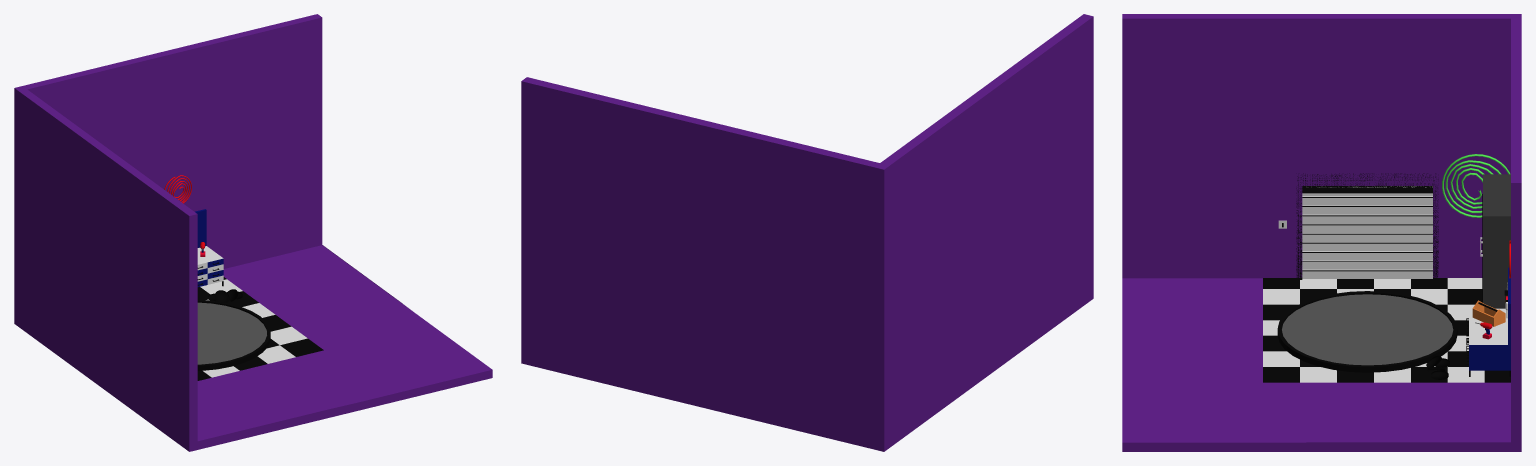
File: GARAGE.fbx
3 renders of one model, left to right at view 1: azimuth 30°, elevation 25°; view 2: azimuth 150°, elevation 25°; view 3: azimuth 270°, elevation 25°, orthographic. The views are drawn at different scales.
Visible parts, largest first — view 1: Cube, Cylinder.001, Cube.003, Cube.004, Cube.002; view 2: Cube; view 3: Cube, Cube.011, Cylinder.001, Cube.004, Cube.003, Cube.001, Cube.002, Circle.001, Cylinder, Cube.017.
Boxes of the visible parts, x1=… form: Cube: x1=14, y1=14, x2=492, y2=451; Cylinder.001: x1=197, y1=299, x2=270, y2=370; Cube.003: x1=200, y1=279, x2=307, y2=377; Cube.004: x1=197, y1=277, x2=323, y2=380; Cube.002: x1=195, y1=209, x2=223, y2=286; Cube: x1=521, y1=14, x2=1093, y2=451; Cube: x1=1122, y1=14, x2=1521, y2=451; Cube.011: x1=1296, y1=173, x2=1438, y2=279; Cylinder.001: x1=1277, y1=291, x2=1457, y2=372; Cube.004: x1=1263, y1=278, x2=1510, y2=382; Cube.003: x1=1263, y1=278, x2=1484, y2=382; Cube.001: x1=1480, y1=174, x2=1510, y2=308; Cube.002: x1=1469, y1=267, x2=1510, y2=376; Circle.001: x1=1442, y1=154, x2=1510, y2=217; Cylinder: x1=1472, y1=300, x2=1505, y2=326; Cube.017: x1=1426, y1=355, x2=1449, y2=379.
Size of the model in its own units: 14.19 by 10.55 by 14.19.
